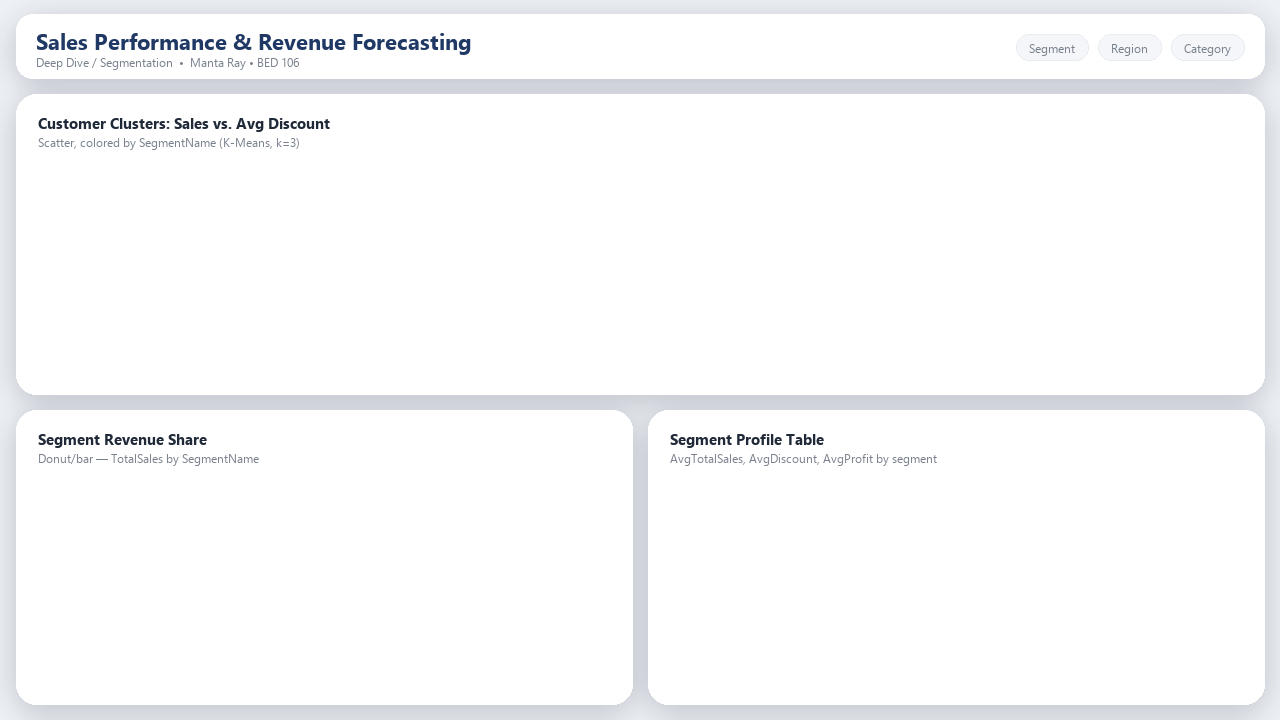

The page's visual inventory and layout, read from the dashboard file:
{"tool":"powerbi","page":{"name":"Segmentation","canvas":[1280,720],"ordinal":2},"visuals":[{"type":"shape","box":[21.7,11.7,1236.7,63.3],"z":0},{"type":"textbox","box":[34.5,18.2,650.9,68.2],"z":1},{"type":"slicer","fields":{"Values":["Customer_Clusters.SegmentName"]},"box":[962.5,27.5,91.8,47.3],"z":2},{"type":"slicer","fields":{"Values":["Orders.Region"]},"box":[1053.8,28.8,91.8,47.3],"z":3},{"type":"slicer","fields":{"Values":["Orders.Category"]},"box":[1146.2,27.5,91.8,47.3],"z":4},{"type":"scatterChart","fields":{"Series":["Customer_Clusters.SegmentName"],"X":["Customer_Clusters.AvgDiscount"],"Y":["Customer_Clusters.TotalSales"]},"box":[21.7,86.7,1236.7,301.7],"z":5},{"type":"donutChart","fields":{"Category":["Customer_Clusters.SegmentName"],"Y":["Sum(Customer_Clusters.TotalSales)"]},"box":[21.7,408.3,618.3,293.3],"z":6},{"type":"tableEx","title":"Segment Profile Table","fields":{"Values":["Customer_Clusters.SegmentName","Customer_Clusters.TotalSales","Customer_Clusters.AvgDiscount","Customer_Clusters.TotalProfit","Customer_Clusters.OrderCount"]},"box":[651.7,408.3,606.7,293.3],"z":7}]}

Visuals, with their boxes in screenshot pixels (x1, y1, x2, y2), scaled from the page's 1280x720 canvas onto the 1280x720 screenshot:
shape: [left=22, top=12, right=1258, bottom=75]
textbox: [left=34, top=18, right=685, bottom=86]
slicer - Customer_Clusters.SegmentName: [left=962, top=28, right=1054, bottom=75]
slicer - Orders.Region: [left=1054, top=29, right=1146, bottom=76]
slicer - Orders.Category: [left=1146, top=28, right=1238, bottom=75]
scatterChart - Customer_Clusters.SegmentName x Customer_Clusters.AvgDiscount: [left=22, top=87, right=1258, bottom=388]
donutChart - Customer_Clusters.SegmentName x Sum(Customer_Clusters.TotalSales): [left=22, top=408, right=640, bottom=702]
"Segment Profile Table" tableEx: [left=652, top=408, right=1258, bottom=702]
